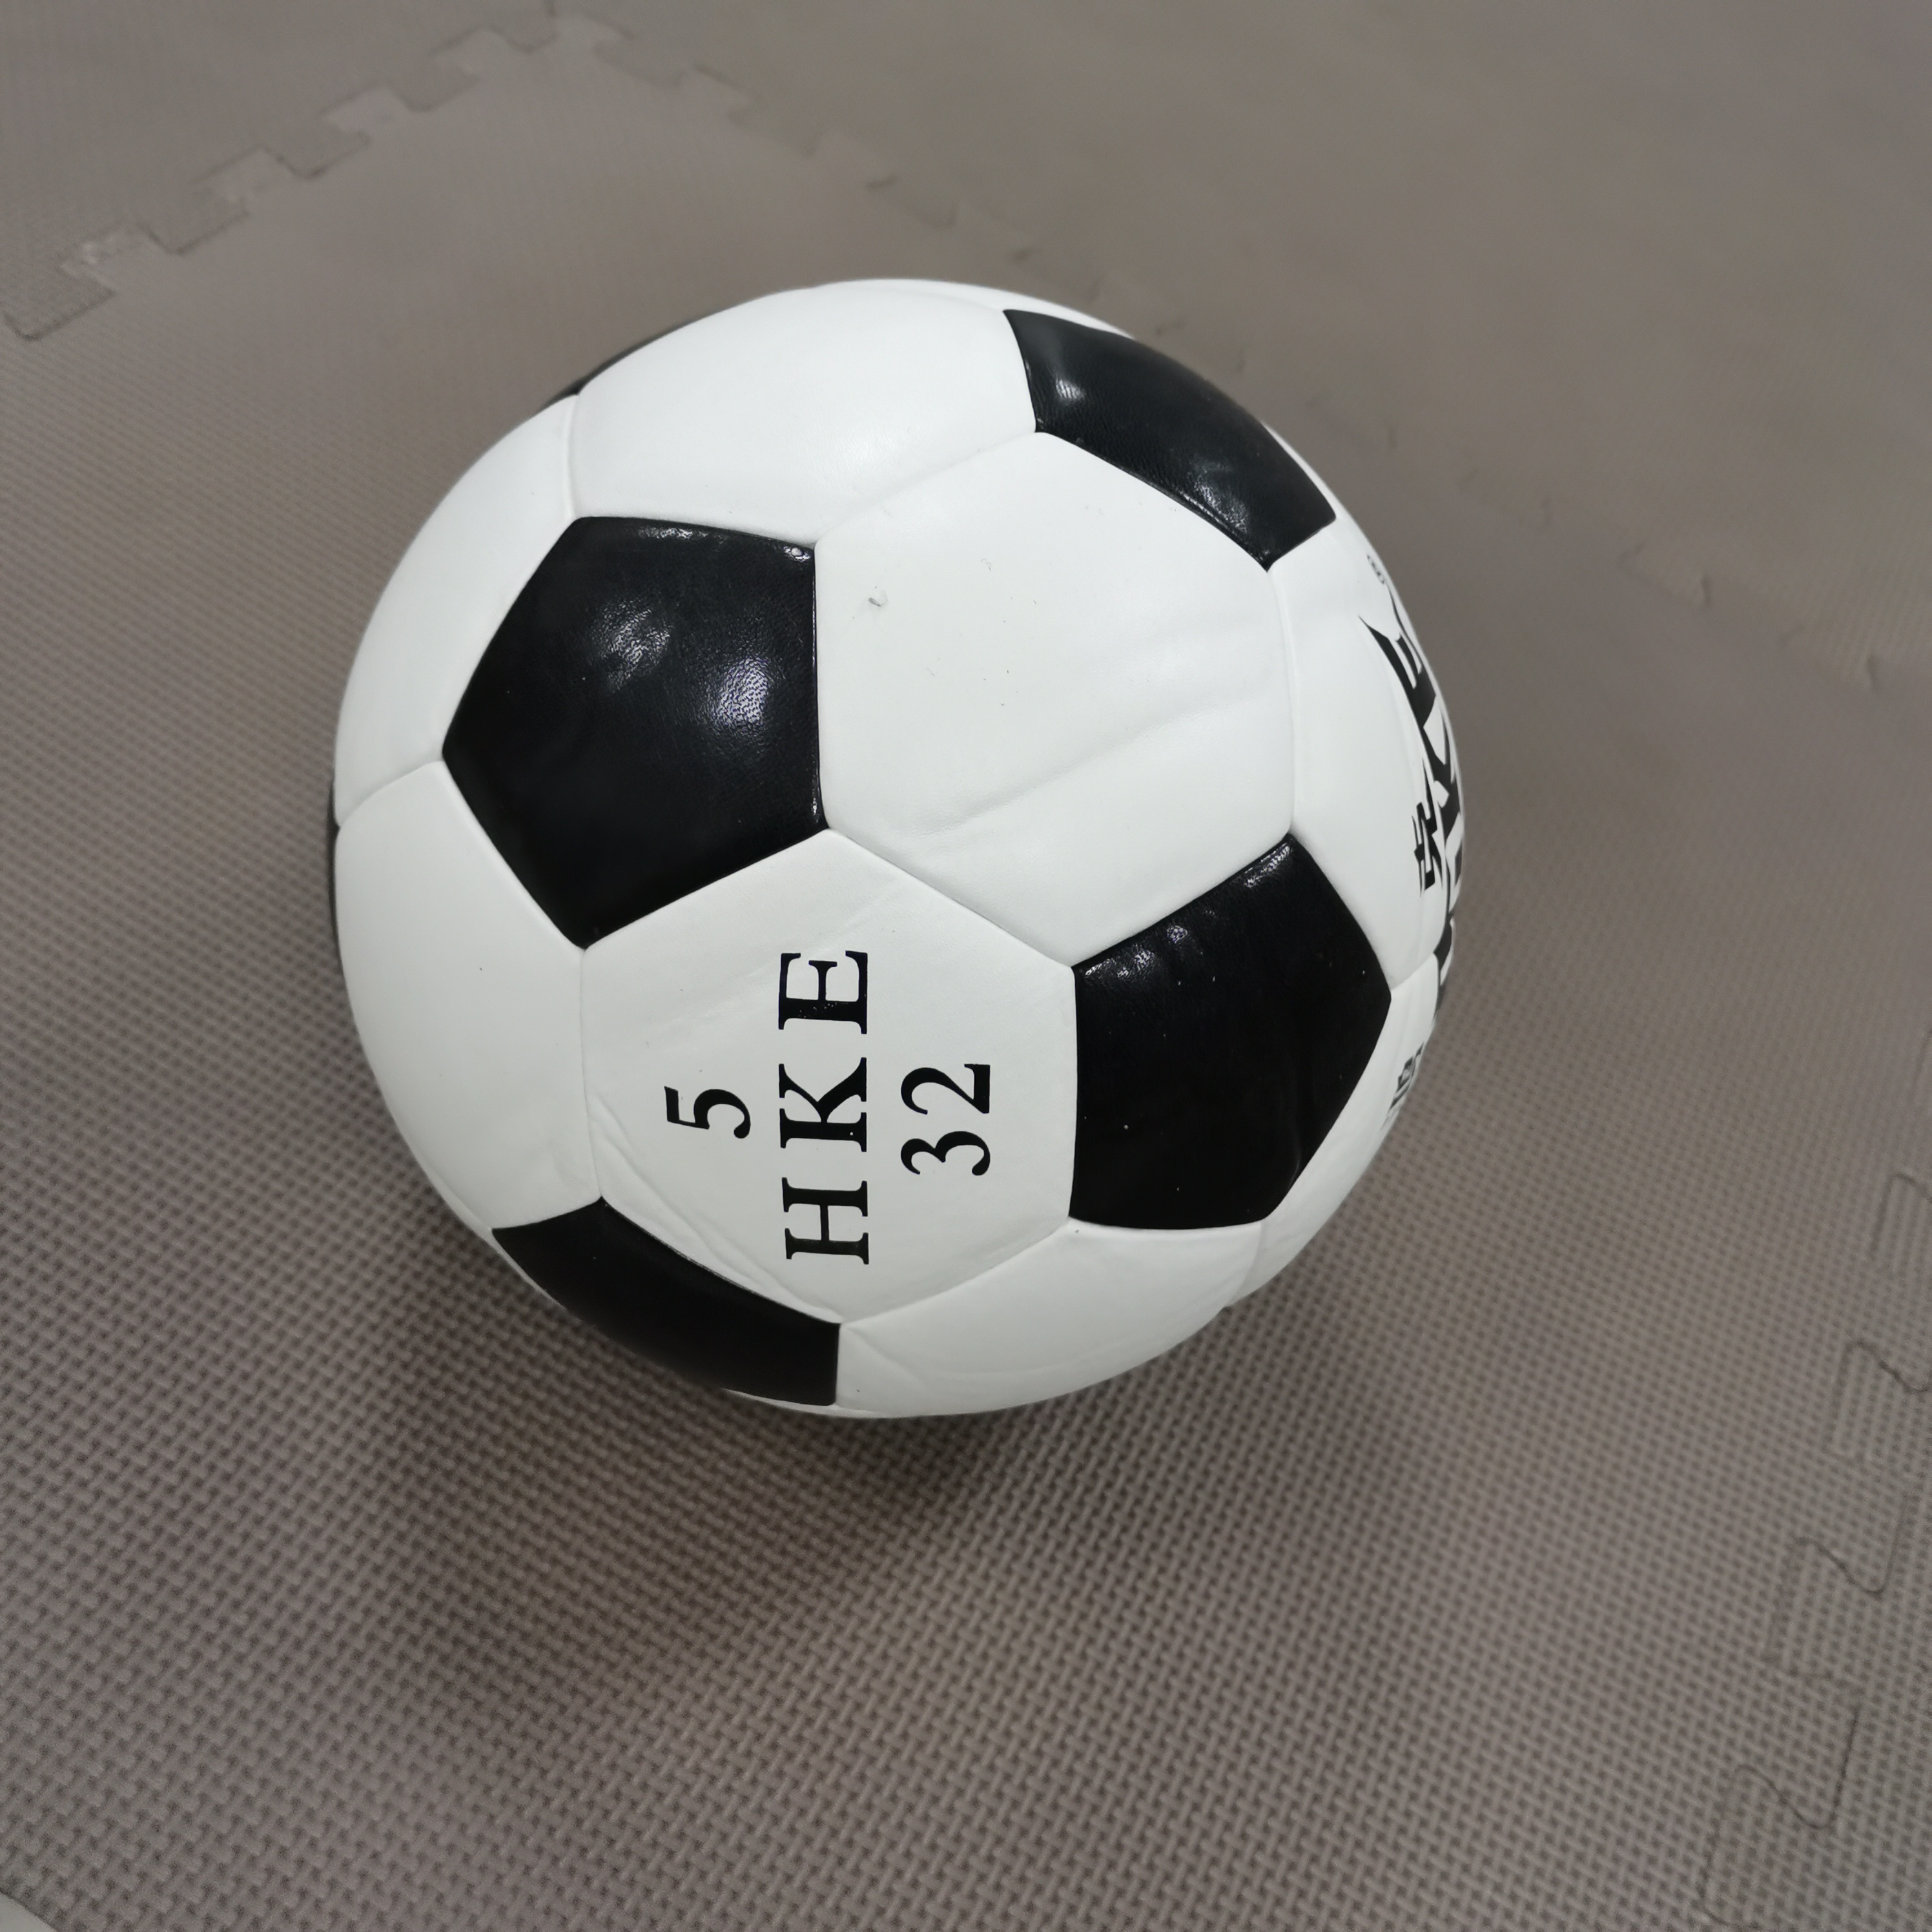football: (324, 281, 1470, 1422)
